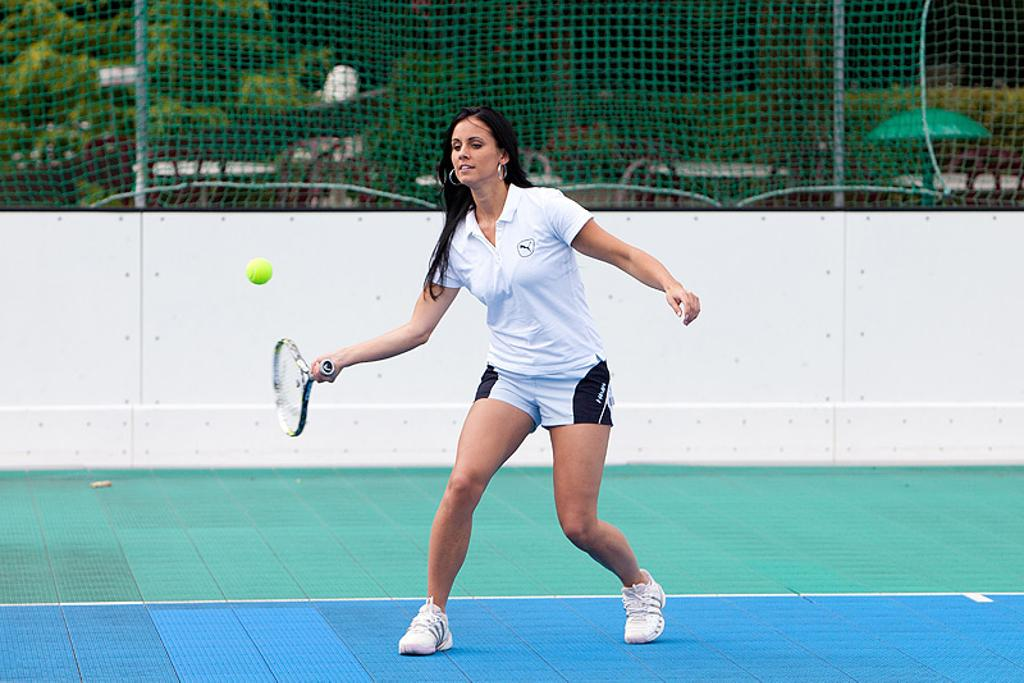face: (451, 116, 497, 183)
